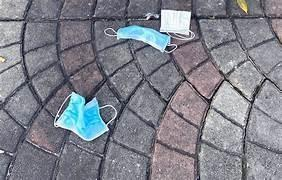Mask: (54, 92, 116, 140), (104, 25, 176, 52), (160, 10, 194, 39)
